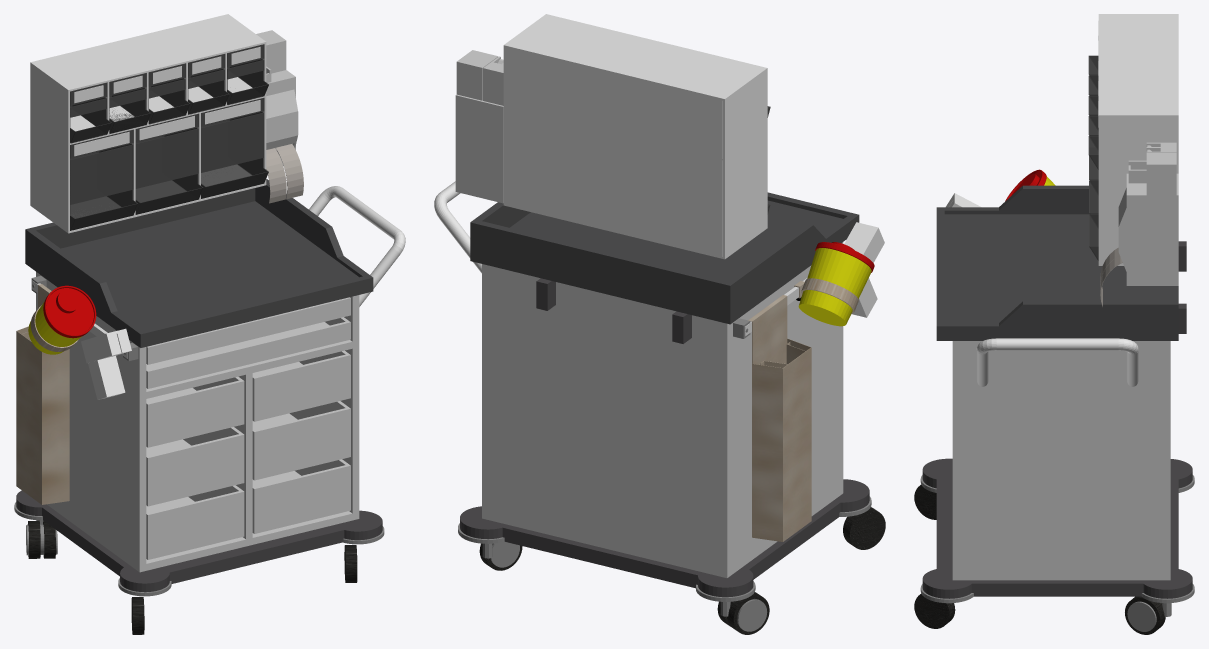
File: Narkosewagen.fbx
3 renders of one model, left to right at view 1: azimuth 30°, elevation 25°; view 2: azimuth 150°, elevation 25°; view 3: azimuth 270°, elevation 25°, orthographic. The views are drawn at different scales.
Parts seen in each view (by area): view 1: Wandnr.-0033 (×10), Decke-001 (×8), Wandnr.-0032 (×3), Wand-052 (×6), Wand-049 (×3), Decke-003, Deckennr.-0005 (×3), Wand-051 (×4), Wand-050, Kegel drehbar 21 - Objekt-0019 (×2), Dach-004 (×2), Wand-055 (×3) (+3 smaller); view 2: Wandnr.-0032 (×3), Wand-051 (×4), Decke-001 (×5), Wandnr.-0033 (×2), Wand-049 (×3), Decke-003, Wand-050, Kegel drehbar 21 - Objekt-0019 (×2), Kegel liegend 21 - Objekt-0002 (×2), Wandnr.-0034, Dach-004, Kegel drehbar 21 - Objekt-0029; view 3: Wandnr.-0032, Decke-001 (×3), Wand-051 (×6), Decke-003, Kegel liegend 21 - Objekt-0002 (×4), Wand-049, Kegel liegend 21 - Objekt-0028, Kegel drehbar 21 - Objekt-0029 (×2).
Boxes of the visible parts, x1=… form: Wandnr.-0033 (×10): x1=16, y1=298, x2=350, y2=558; Decke-001 (×8): x1=25, y1=14, x2=373, y2=347; Wandnr.-0032 (×3): x1=39, y1=274, x2=359, y2=572; Wand-052 (×6): x1=70, y1=112, x2=268, y2=230; Wand-049 (×3): x1=29, y1=64, x2=117, y2=312; Decke-003: x1=16, y1=490, x2=382, y2=592; Deckennr.-0005 (×3): x1=146, y1=322, x2=352, y2=570; Wand-051 (×4): x1=255, y1=30, x2=343, y2=257; Wand-050: x1=25, y1=188, x2=255, y2=252; Kegel drehbar 21 - Objekt-0019 (×2): x1=28, y1=288, x2=93, y2=354; Dach-004 (×2): x1=81, y1=331, x2=125, y2=399; Wand-055 (×3): x1=74, y1=100, x2=260, y2=156; Wandnr.-0032 (×3): x1=482, y1=242, x2=843, y2=577; Wand-051 (×4): x1=455, y1=47, x2=722, y2=256; Decke-001 (×5): x1=470, y1=14, x2=859, y2=324; Wandnr.-0033 (×2): x1=752, y1=348, x2=811, y2=541; Wand-049 (×3): x1=723, y1=70, x2=825, y2=305; Decke-003: x1=460, y1=479, x2=869, y2=597; Wand-050: x1=470, y1=219, x2=734, y2=308; Kegel drehbar 21 - Objekt-0019 (×2): x1=798, y1=248, x2=871, y2=326; Kegel liegend 21 - Objekt-0002 (×2): x1=737, y1=507, x2=885, y2=631; Wandnr.-0034: x1=752, y1=296, x2=787, y2=364; Dach-004: x1=854, y1=225, x2=884, y2=262; Kegel drehbar 21 - Objekt-0029: x1=440, y1=211, x2=481, y2=273; Wandnr.-0032: x1=952, y1=341, x2=1170, y2=580; Decke-001 (×3): x1=936, y1=14, x2=1178, y2=340; Wand-051 (×6): x1=999, y1=117, x2=1178, y2=326; Decke-003: x1=922, y1=458, x2=1192, y2=598; Kegel liegend 21 - Objekt-0002 (×4): x1=914, y1=485, x2=1165, y2=634; Wand-049: x1=995, y1=185, x2=1089, y2=214; Kegel liegend 21 - Objekt-0028: x1=996, y1=338, x2=1118, y2=350; Kegel drehbar 21 - Objekt-0029 (×2): x1=976, y1=350, x2=1138, y2=386.
Bounding box in the file's own units: 104 × 70.13 × 140.
Materials: 14 (3 with a texture image).
